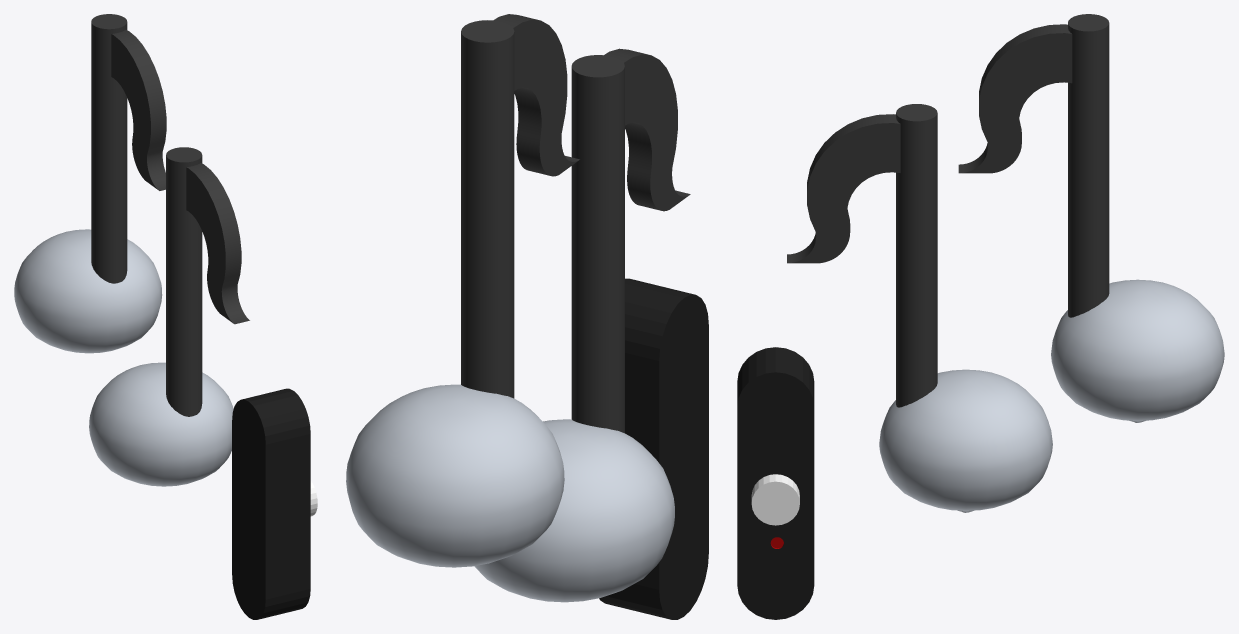
The model's file is doorbell.dae.
3 renders of one model, left to right at view 1: azimuth 30°, elevation 25°; view 2: azimuth 150°, elevation 25°; view 3: azimuth 270°, elevation 25°, orthographic. The views are drawn at different scales.
Parts seen in each view (by area): view 1: group_4 (×2), group_0 (×2), group_2 (×2), group_3, group_1; view 2: group_3, group_2 (×2), group_0 (×2), group_4 (×2), group_1; view 3: group_2 (×2), group_0 (×2), group_4 (×2), group_1, group_3.
Part boxes in pixels (x1,y1,x2,y2): group_4 (×2): (232, 388, 310, 619); group_0 (×2): (166, 147, 249, 416); group_2 (×2): (91, 14, 166, 283); group_3: (14, 229, 162, 353); group_1: (89, 362, 233, 486); group_3: (346, 384, 564, 567); group_2 (×2): (461, 14, 579, 398); group_0 (×2): (571, 48, 690, 433); group_4 (×2): (599, 278, 708, 619); group_1: (474, 419, 674, 602); group_2 (×2): (958, 14, 1109, 317); group_0 (×2): (787, 104, 937, 407); group_4 (×2): (737, 347, 814, 619); group_1: (879, 369, 1052, 512); group_3: (1051, 279, 1224, 422).
Size of the model in its own units: 3.01 by 8.71 by 11.24.
Materials: 6 (6 with a texture image).
